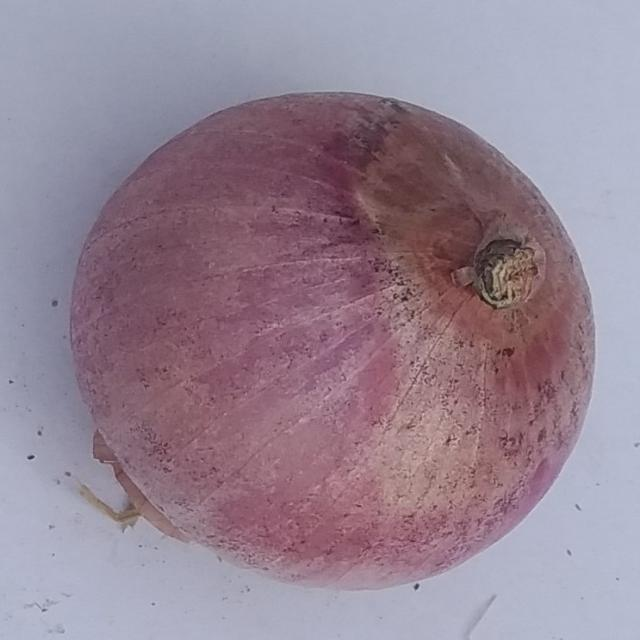onion: (63, 89, 602, 592)
